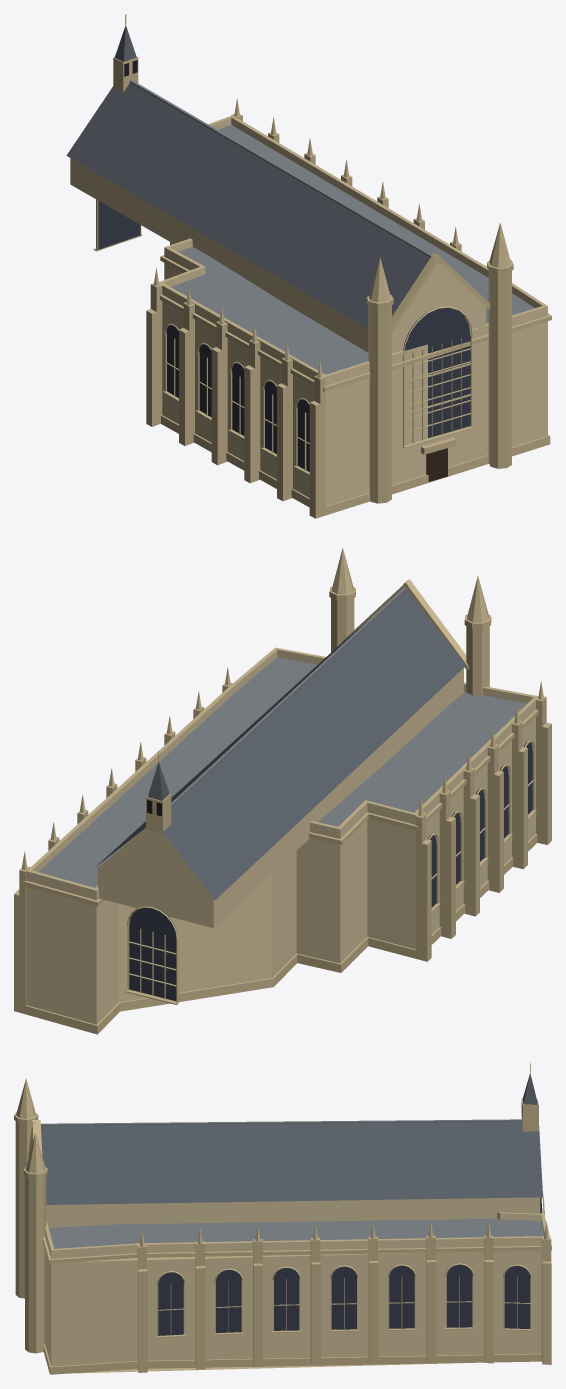
Rendered from holy_trinity_prince_consort_road.glb.
3 renders of one model, top to bottom at view 1: azimuth 30°, elevation 25°; view 2: azimuth 150°, elevation 25°; view 3: azimuth 270°, elevation 25°, orthographic. The views are drawn at different scales.
Bounding box in the file's own units: 28.25 × 27.27 × 52.95.
